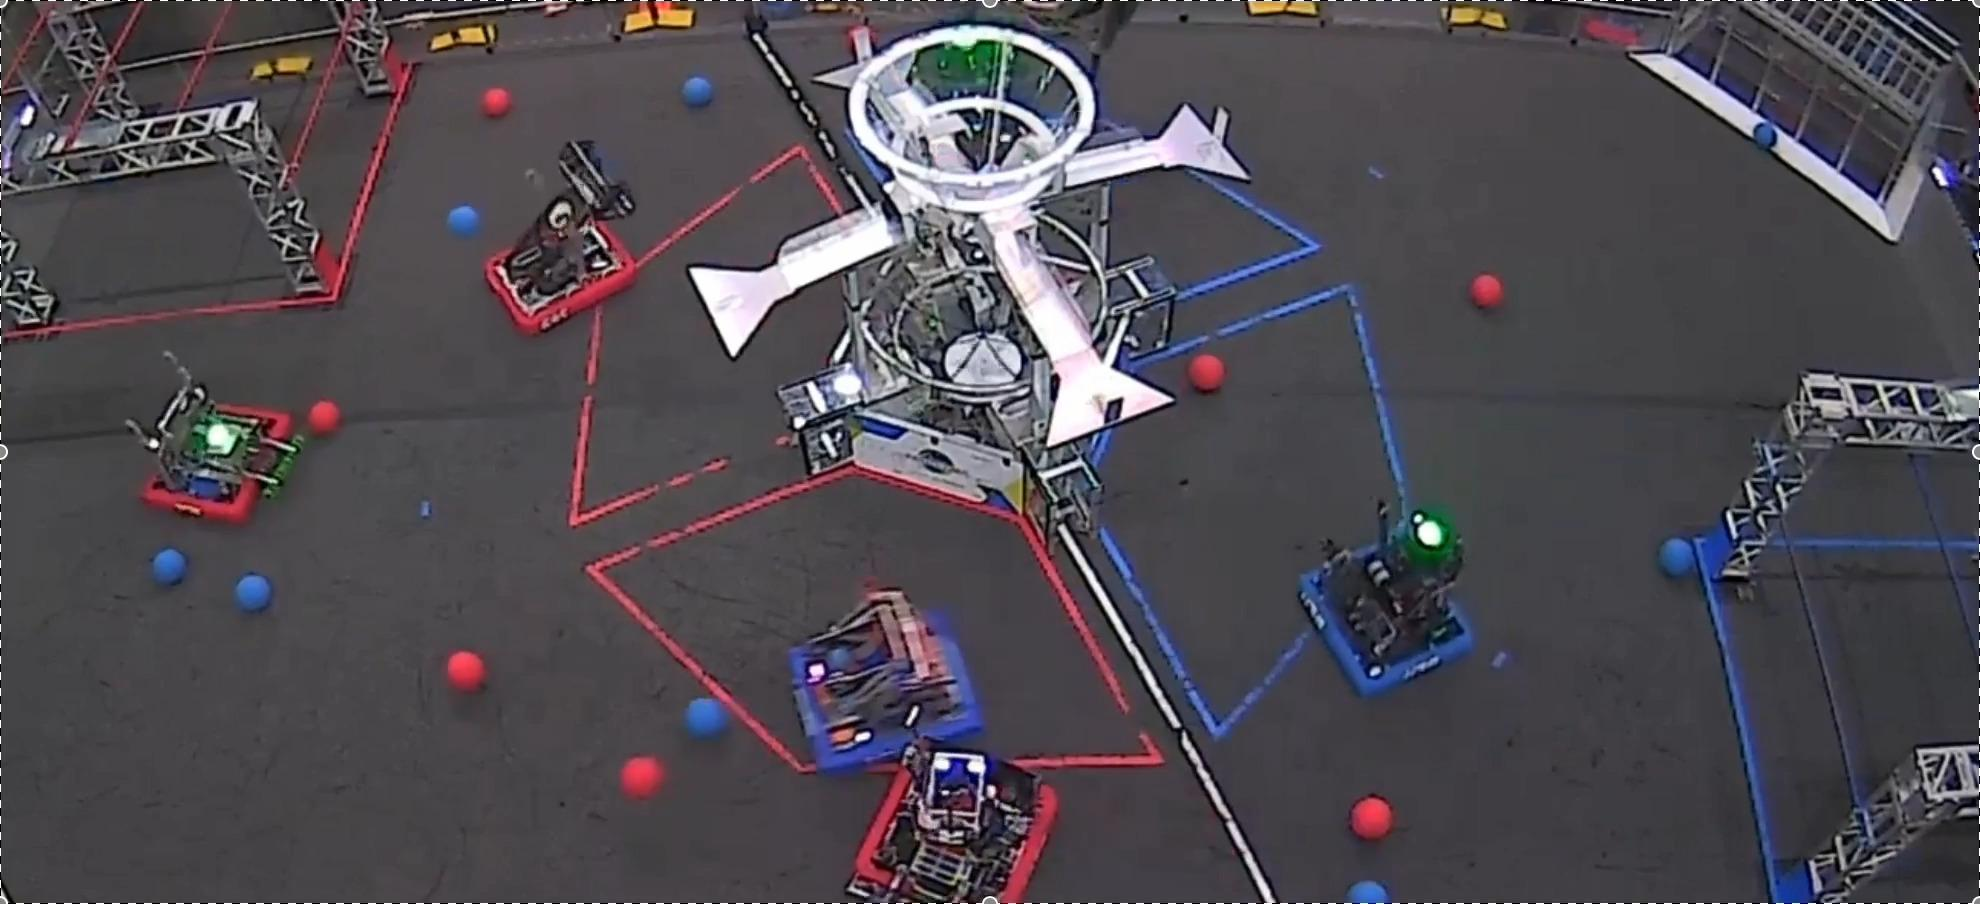Robots: (790, 590, 980, 771), (847, 739, 1056, 901), (1301, 503, 1471, 693), (125, 354, 301, 521), (486, 140, 636, 333), (921, 6, 1018, 119)
